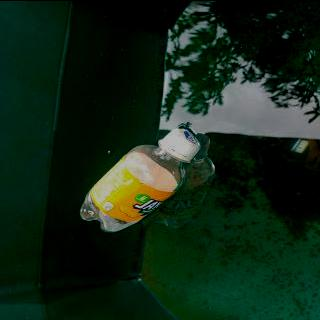bottle: (75, 126, 202, 233)
